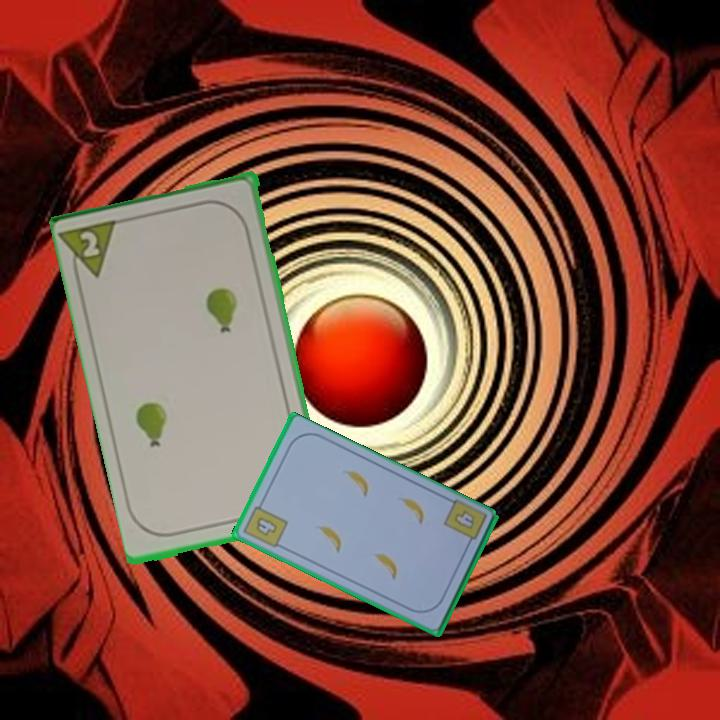2p: (60, 215, 124, 287)
4b: (240, 497, 291, 551), (450, 507, 478, 533)
